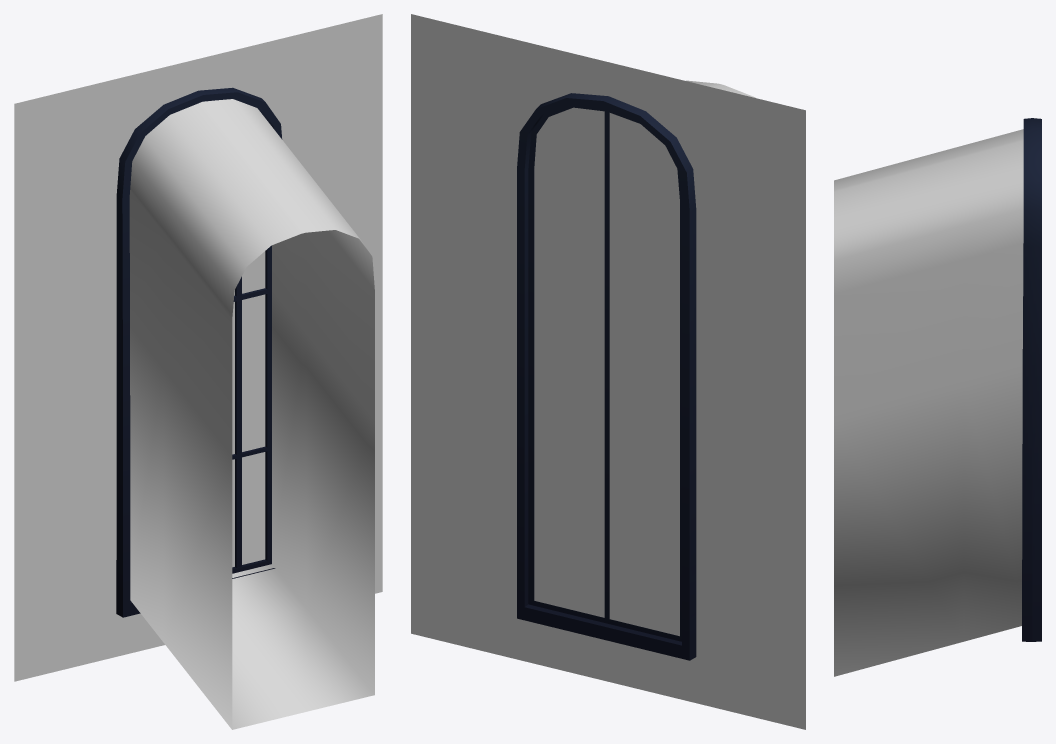
File: Mall_Generic_Window_wall.fbx
3 views of the same model, side by side, from view 1: azimuth 30°, elevation 25°; view 2: azimuth 150°, elevation 25°; view 3: azimuth 270°, elevation 25° (orthographic). The views are drawn at different scales.
Visible parts, largest first — view 1: SM_Bld_Casino_Window_02.003, Plane.457, SM_Bld_Casino_Window_02, SM_Bld_Casino_Window_Glass; view 2: Plane.457, SM_Bld_Casino_Window_Glass, SM_Bld_Casino_Window_02; view 3: SM_Bld_Casino_Window_02.003, SM_Bld_Casino_Window_02.
Part boxes in pixels (left/top/right/bottom): SM_Bld_Casino_Window_02.003: left=129, top=99, right=374, bottom=729; Plane.457: left=14, top=14, right=382, bottom=681; SM_Bld_Casino_Window_02: left=116, top=87, right=282, bottom=617; SM_Bld_Casino_Window_Glass: left=232, top=251, right=265, bottom=567; Plane.457: left=411, top=14, right=805, bottom=729; SM_Bld_Casino_Window_Glass: left=534, top=107, right=679, bottom=636; SM_Bld_Casino_Window_02: left=517, top=93, right=696, bottom=660; SM_Bld_Casino_Window_02.003: left=834, top=129, right=1023, bottom=676; SM_Bld_Casino_Window_02: left=1022, top=118, right=1041, bottom=641.
Bounding box in the file's own units: 400 × 600 × 207.
